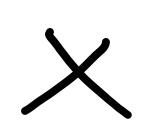mult: (21, 28, 133, 119)
